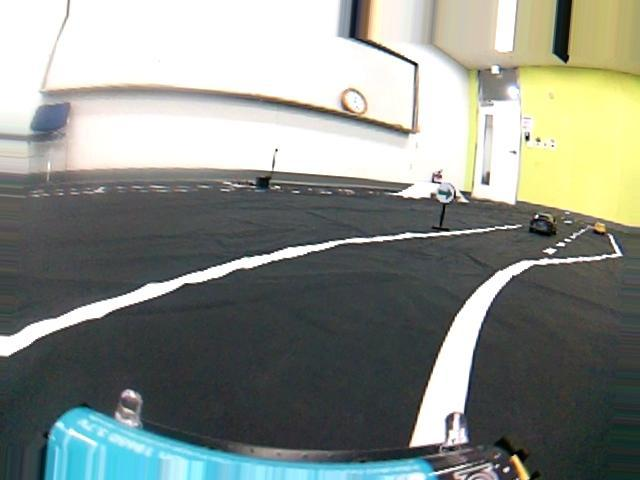car: (531, 211, 560, 236), (591, 218, 610, 236)
right: (0, 217, 640, 480)
sign_right: (435, 180, 456, 206)
